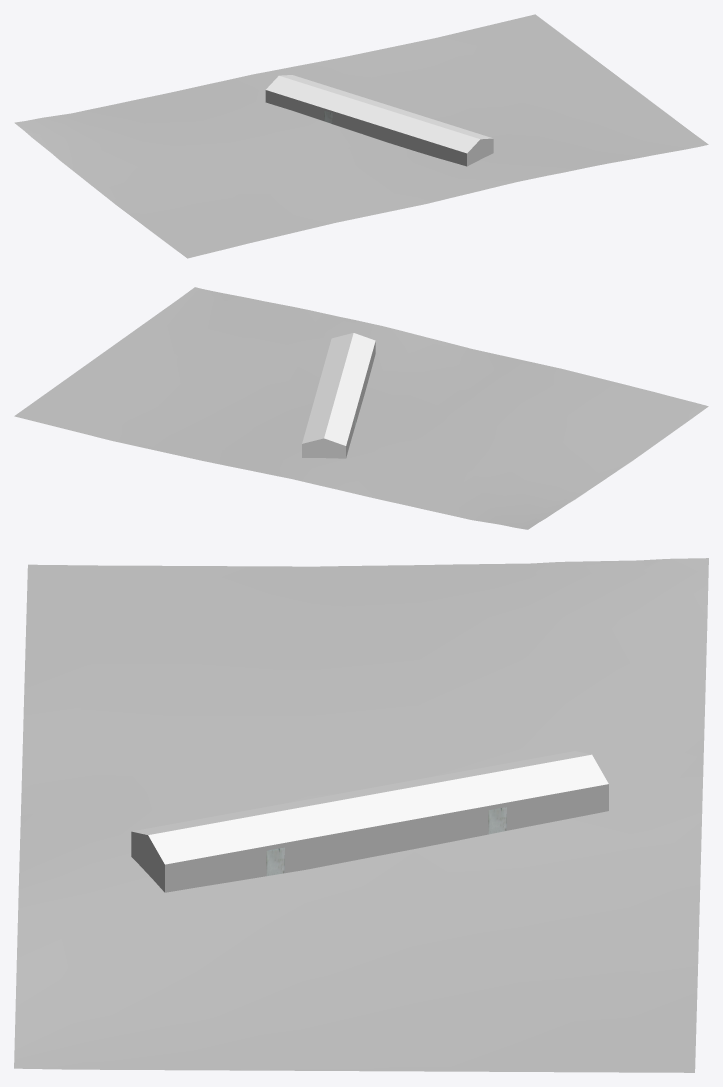
Rendered from galpão.fbx.
3 renders of one model, top to bottom at view 1: azimuth 30°, elevation 25°; view 2: azimuth 150°, elevation 25°; view 3: azimuth 270°, elevation 25°, orthographic. The views are drawn at different scales.
Parts seen in each view (by area): view 1: Google_Earth_Terrain, Model; view 2: Google_Earth_Terrain, Model; view 3: Google_Earth_Terrain, Model.
Boxes of the visible parts, x1,y1,x2,y2 form: Google_Earth_Terrain: (14, 14, 708, 258); Model: (265, 75, 493, 166); Google_Earth_Terrain: (14, 287, 708, 529); Model: (302, 333, 375, 458); Google_Earth_Terrain: (14, 558, 708, 1072); Model: (131, 751, 608, 892).
Bounding box in the file's own units: 407 × 20.46 × 245.
